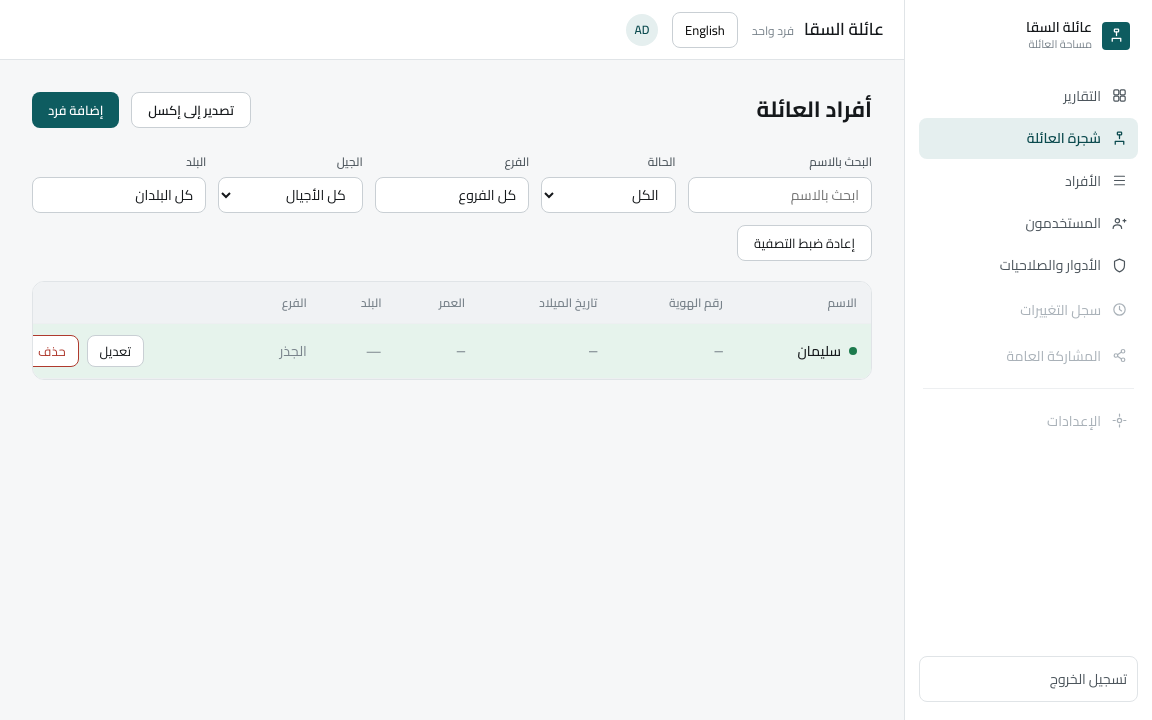
MembersPage › does not delete when the dialog is cancelled
This screenshot has width=1152, height=720.
Expected: the text "سليمان" is shown, [797, 340, 841, 363]
Click the button "حذف".
click(52, 351)  # box [25, 335, 79, 367]
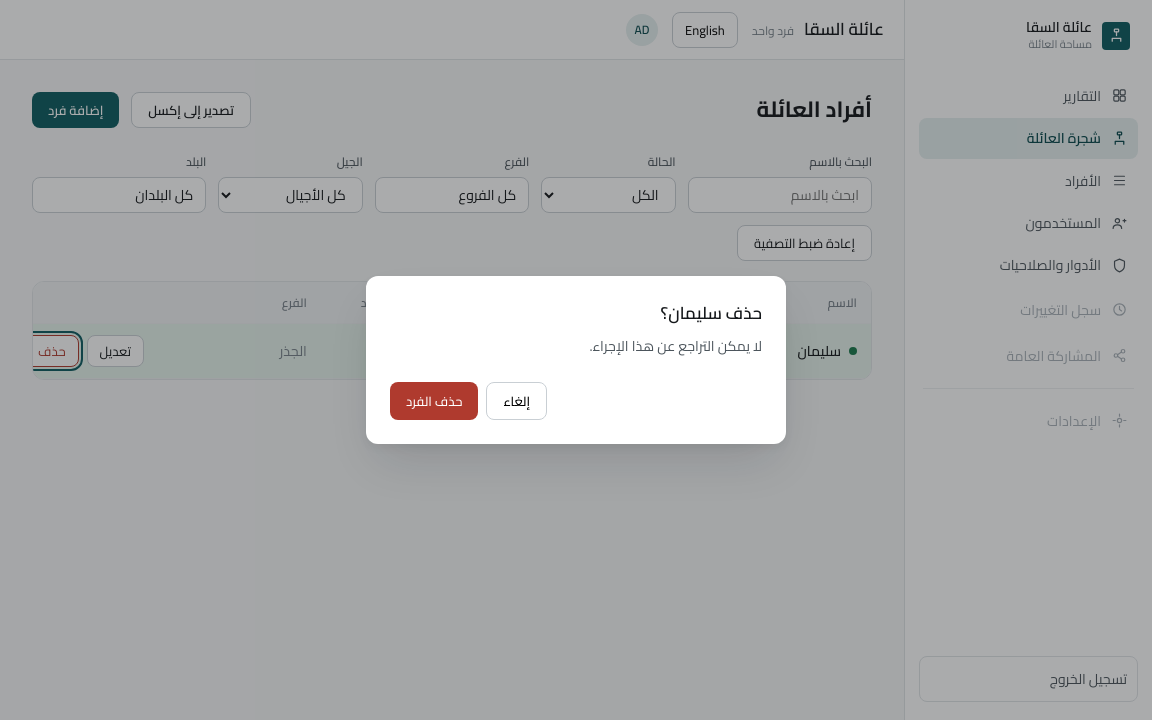
Click the button "إلغاء".
click(517, 401)  # box [486, 382, 547, 420]
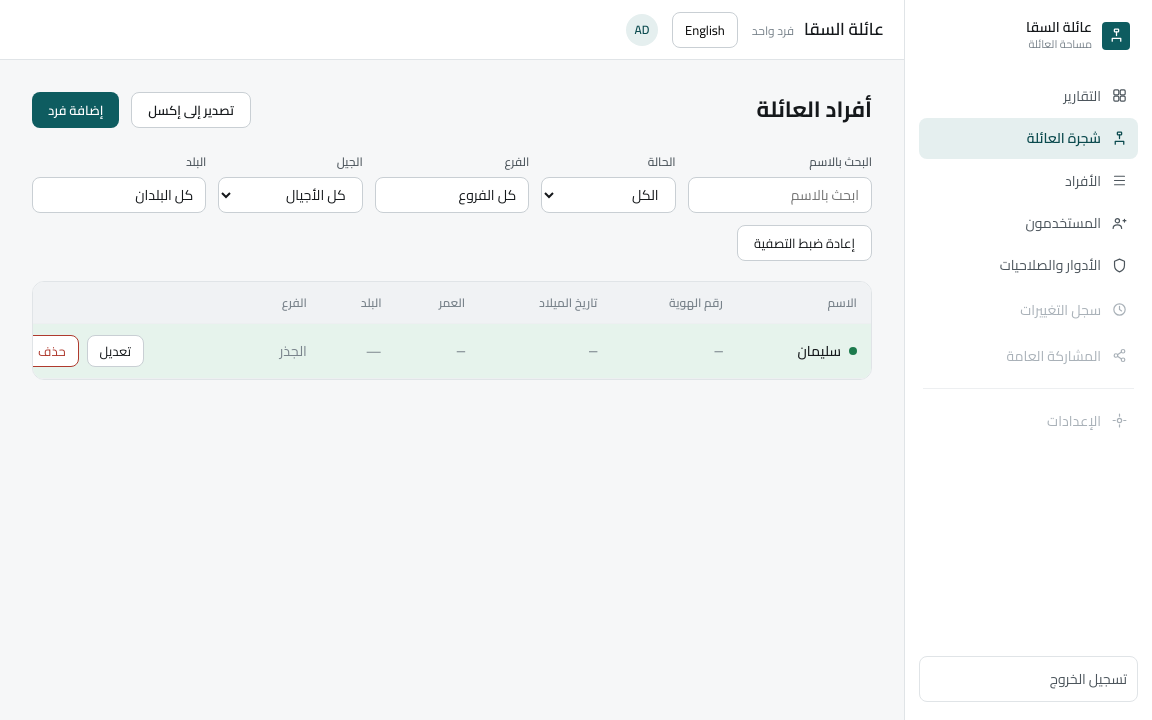
Result: the dialog is gone
